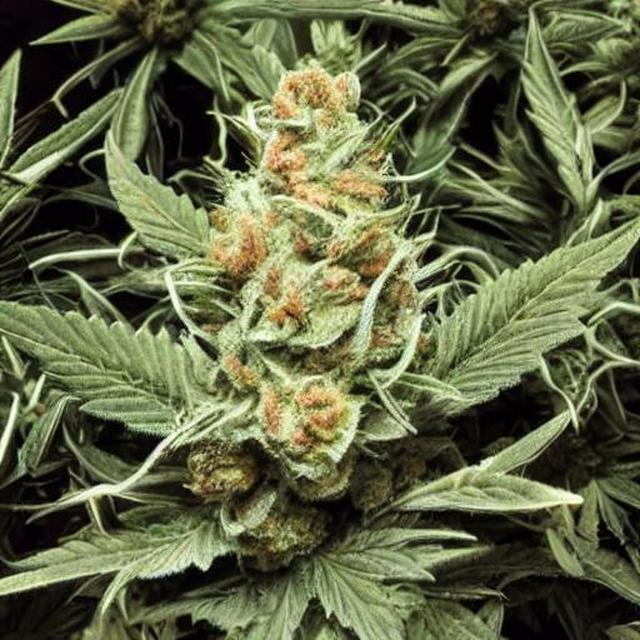Marijuana Plant: (40, 60, 571, 575)
